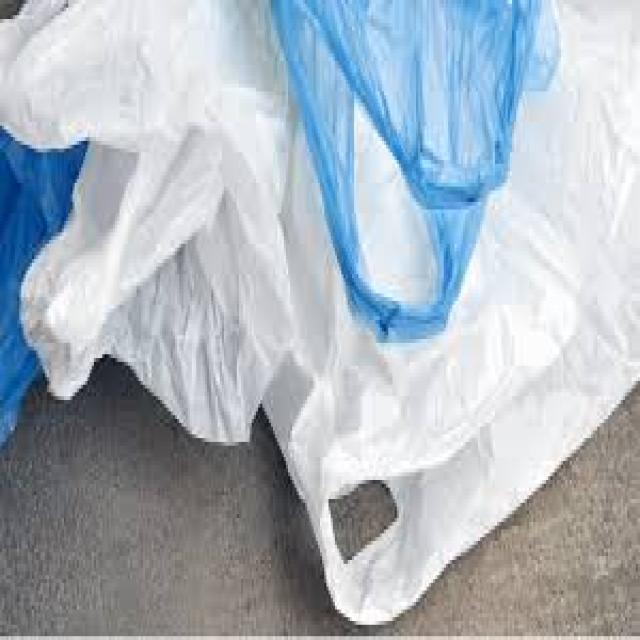plastic: (262, 0, 638, 625), (0, 0, 294, 442), (260, 0, 559, 339), (0, 118, 90, 446)
